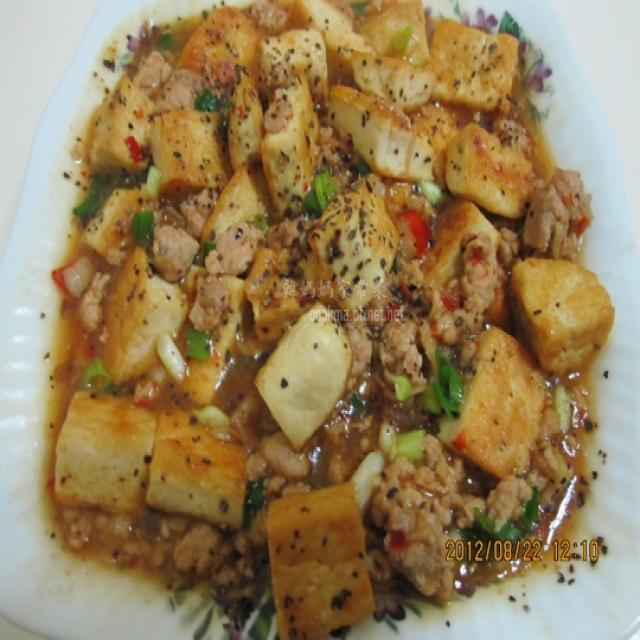豆腐料理: (3, 2, 630, 626)
